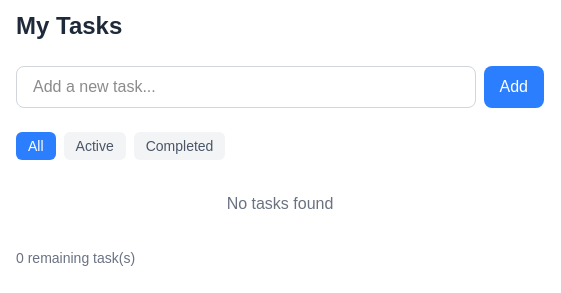
Test: TODOApp › Adding tasks › adds a new task when Add button is clicked
This screenshot has width=561, height=293.
Type "Buy groceries" into the field with placeholder "Add a new task..." at (246, 87), box [16, 66, 476, 108]
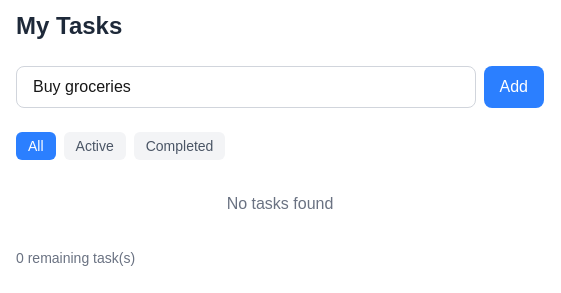
Click the button "Add" at (514, 87), box [484, 66, 544, 108]
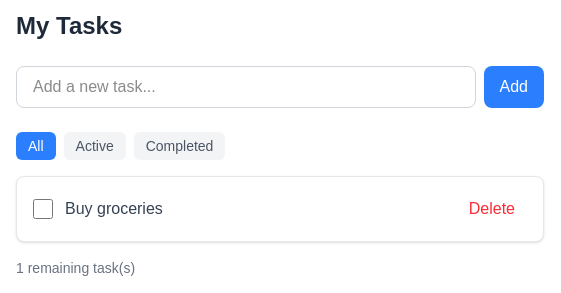
expect the text "Buy groceries" is shown: met, box [65, 200, 163, 217]
